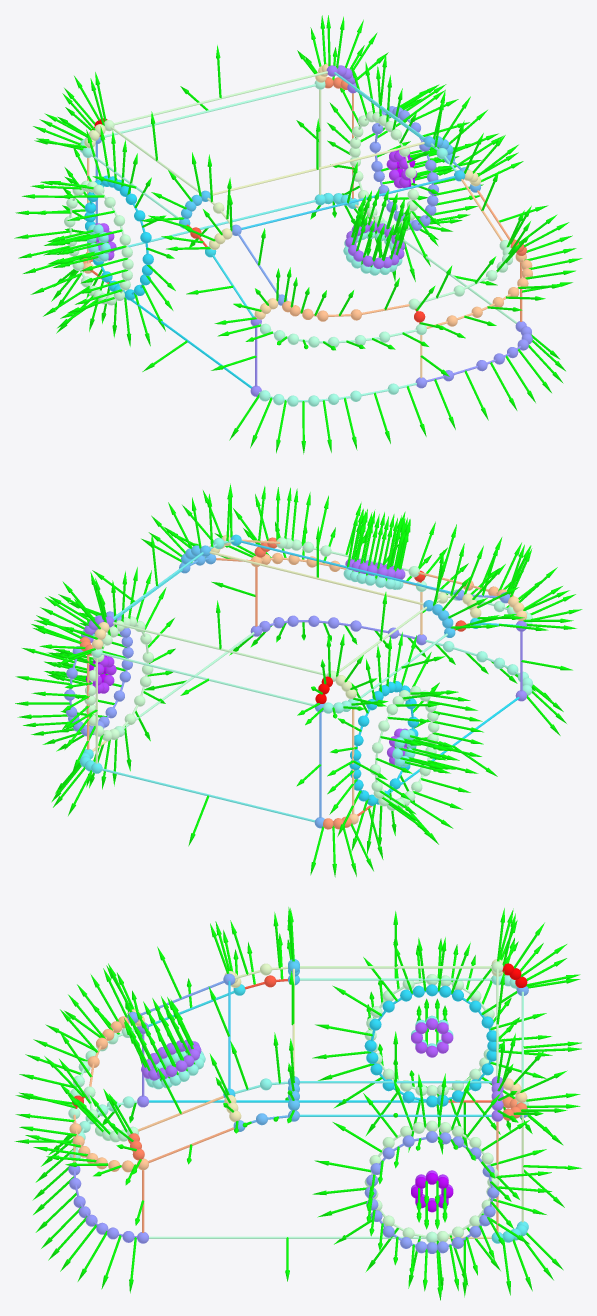
Rendered from onshape_vacuum.gltf.
The picture shows the model from 3 angles, top to bottom: view 1: azimuth 30°, elevation 25°; view 2: azimuth 150°, elevation 25°; view 3: azimuth 270°, elevation 25°; orthographic projection. The views are drawn at different scales.
Bounding box in the file's own units: 0.8155 × 0.4633 × 0.942.
